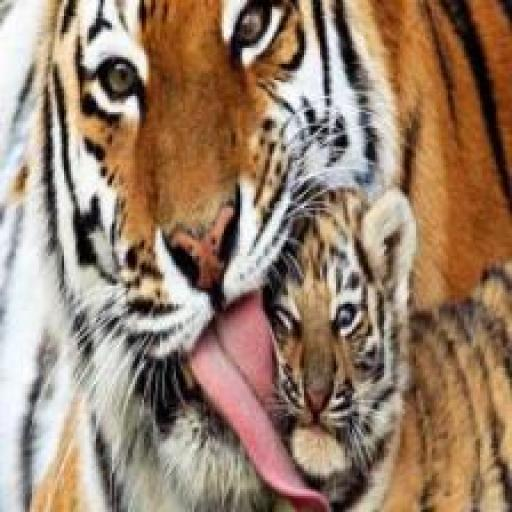Tiger: (0, 0, 512, 512), (269, 187, 512, 512)
